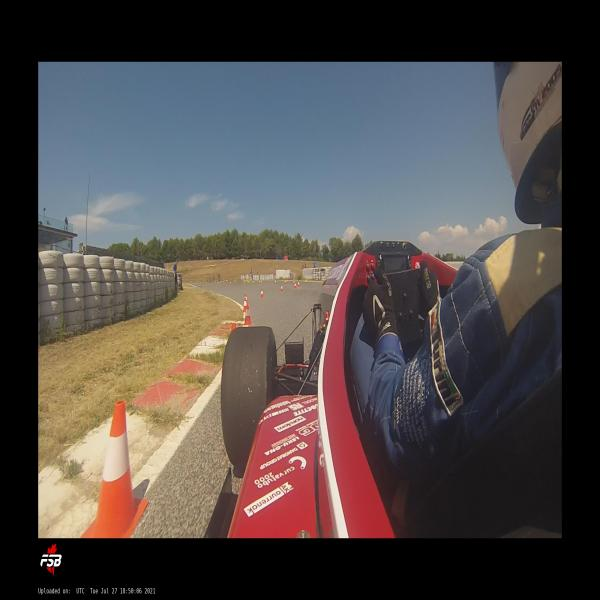orange_cone: (79, 401, 149, 538), (245, 304, 251, 325), (243, 298, 247, 312), (244, 294, 248, 308), (280, 285, 283, 292), (261, 289, 263, 298), (298, 280, 300, 286), (295, 282, 296, 288)
